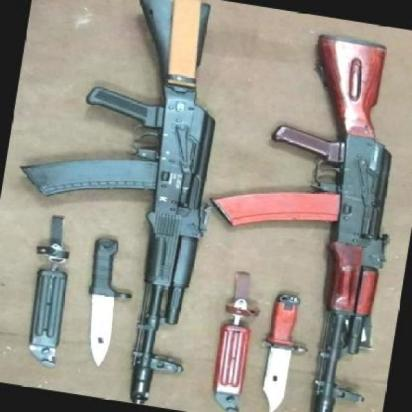Gun: (0, 0, 247, 406), (194, 20, 412, 412)
